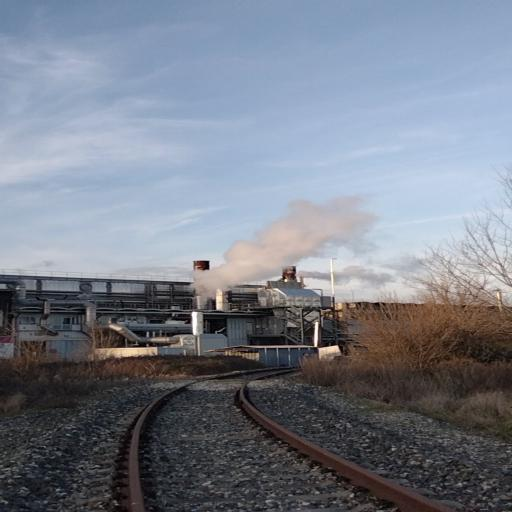leakage: (181, 190, 399, 313), (284, 256, 438, 290)
